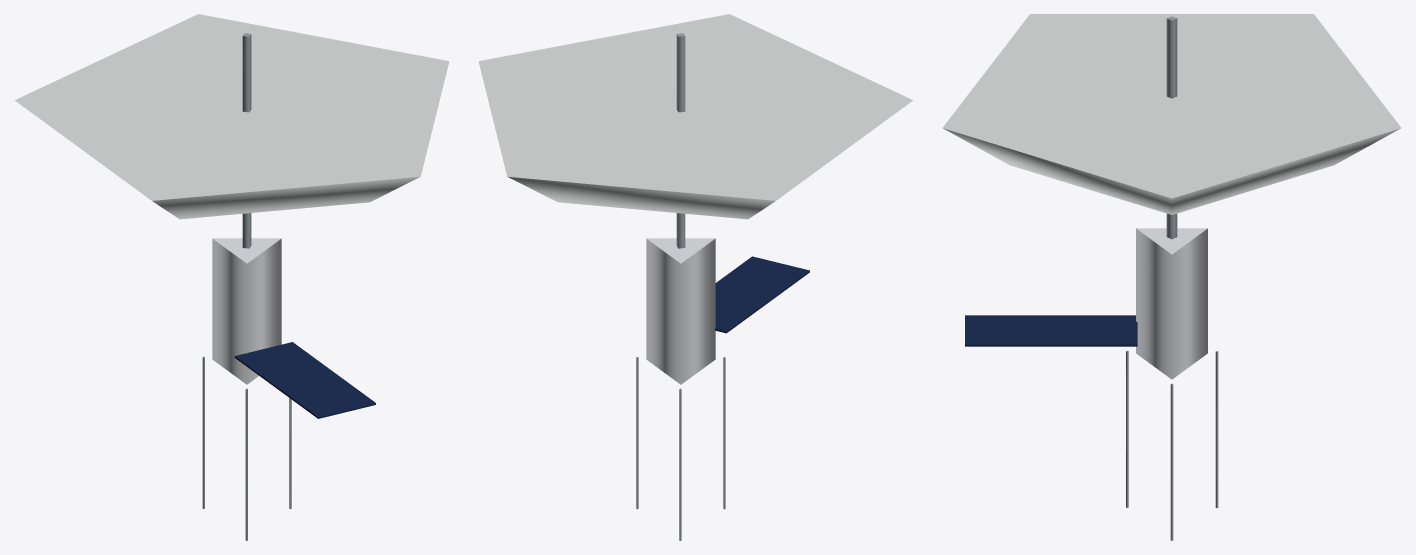
The model's file is space_orbital_radar_t2_lod2.glb.
3 renders of one model, left to right at view 1: azimuth 30°, elevation 25°; view 2: azimuth 150°, elevation 25°; view 3: azimuth 270°, elevation 25°, orthographic. The views are drawn at different scales.
Parts seen in each view (by area): view 1: dish, body, solar_0; view 2: dish, body, solar_0; view 3: dish, body, solar_0.
Part boxes in pixels (left/top/right/bottom): dish: left=14, top=14, right=449, bottom=248; body: left=202, top=238, right=291, bottom=540; solar_0: left=234, top=342, right=375, bottom=418; dish: left=478, top=14, right=913, bottom=248; body: left=636, top=238, right=725, bottom=540; solar_0: left=715, top=256, right=809, bottom=333; dish: left=942, top=14, right=1401, bottom=239; body: left=1126, top=228, right=1218, bottom=540; solar_0: left=965, top=315, right=1137, bottom=346.
Bounding box in the file's own units: 12.66 × 16 × 13.31.
